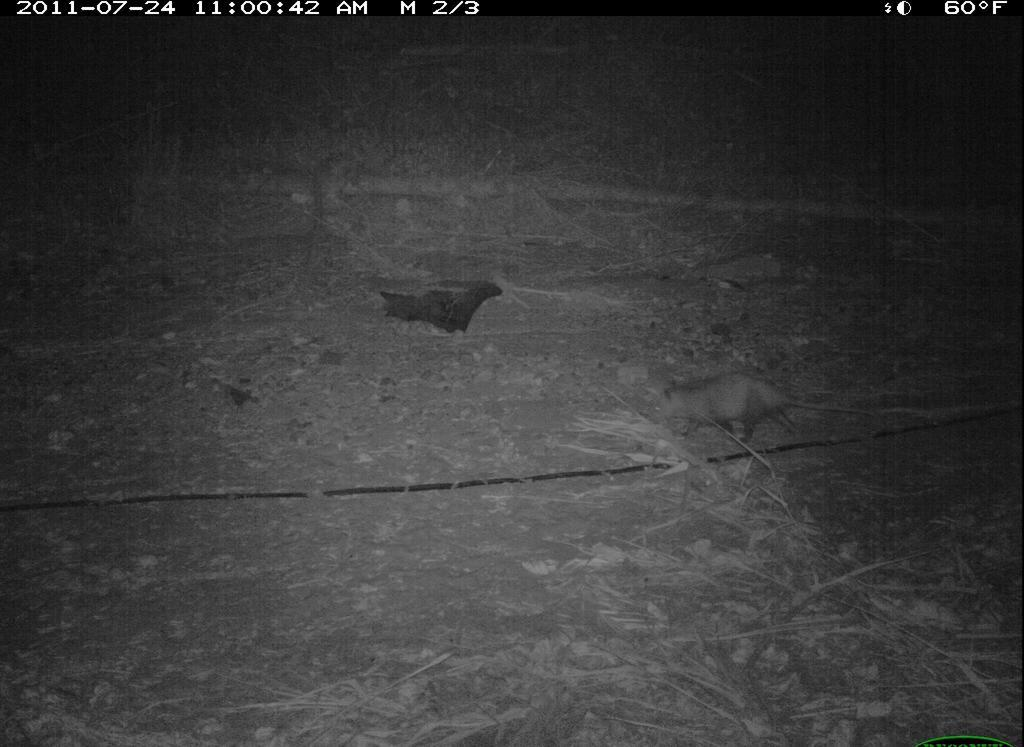opossum: (652, 358, 863, 450)
